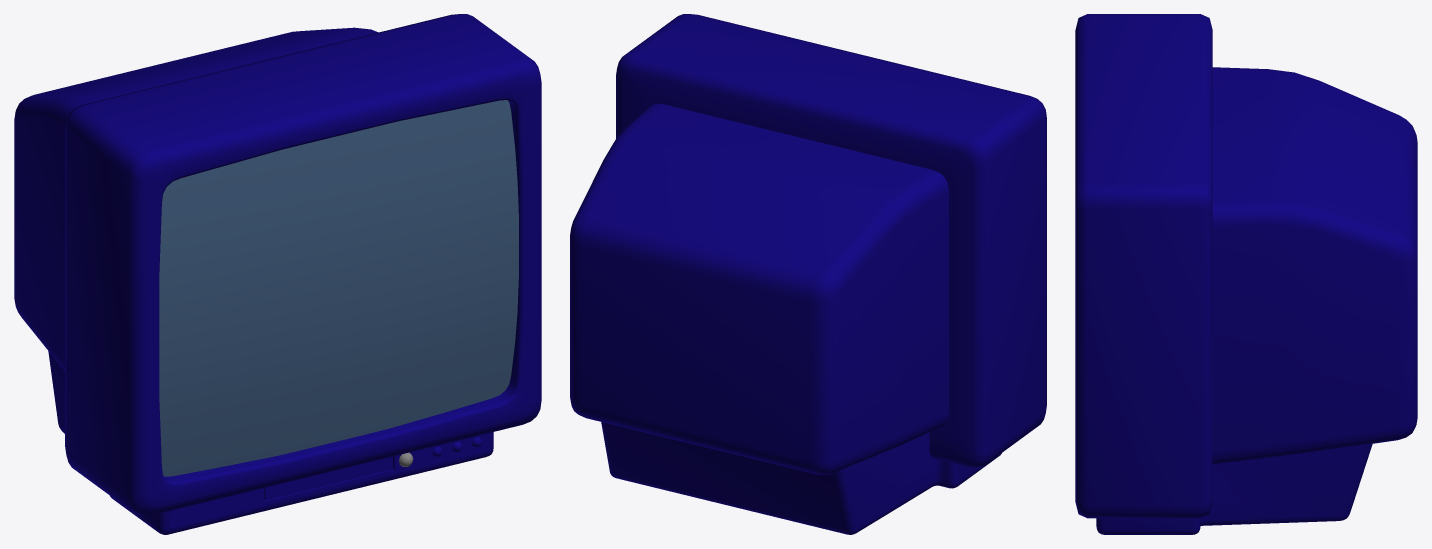
3 views of the same model, side by side, from view 1: azimuth 30°, elevation 25°; view 2: azimuth 150°, elevation 25°; view 3: azimuth 270°, elevation 25° (orthographic). The views are drawn at different scales.
Parts seen in each view (by area): view 1: SM_TV; view 2: SM_TV; view 3: SM_TV.
Boxes of the visible parts, x1,y1,x2,y2 form: SM_TV: [14, 14, 541, 534]; SM_TV: [570, 14, 1046, 534]; SM_TV: [1075, 14, 1417, 534].
Size of the model in its own units: 94.56 by 87.28 by 74.67.
